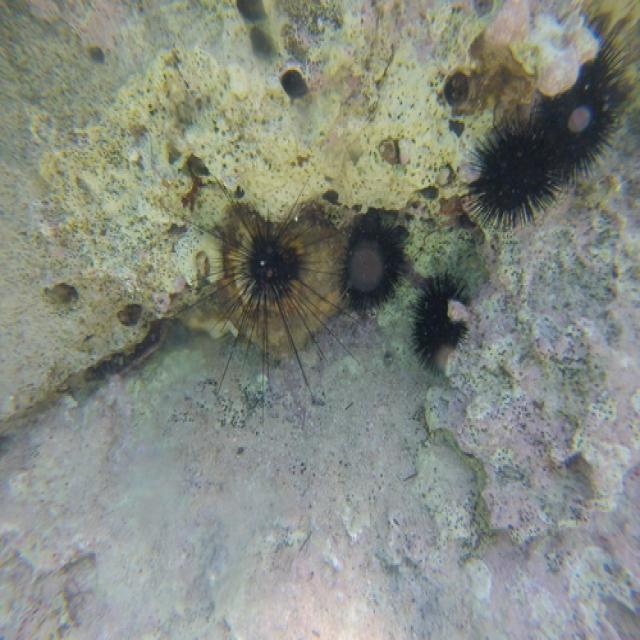Urchin: (176, 172, 346, 413), (530, 24, 634, 183), (457, 114, 566, 230), (332, 206, 414, 312), (407, 273, 477, 381)
